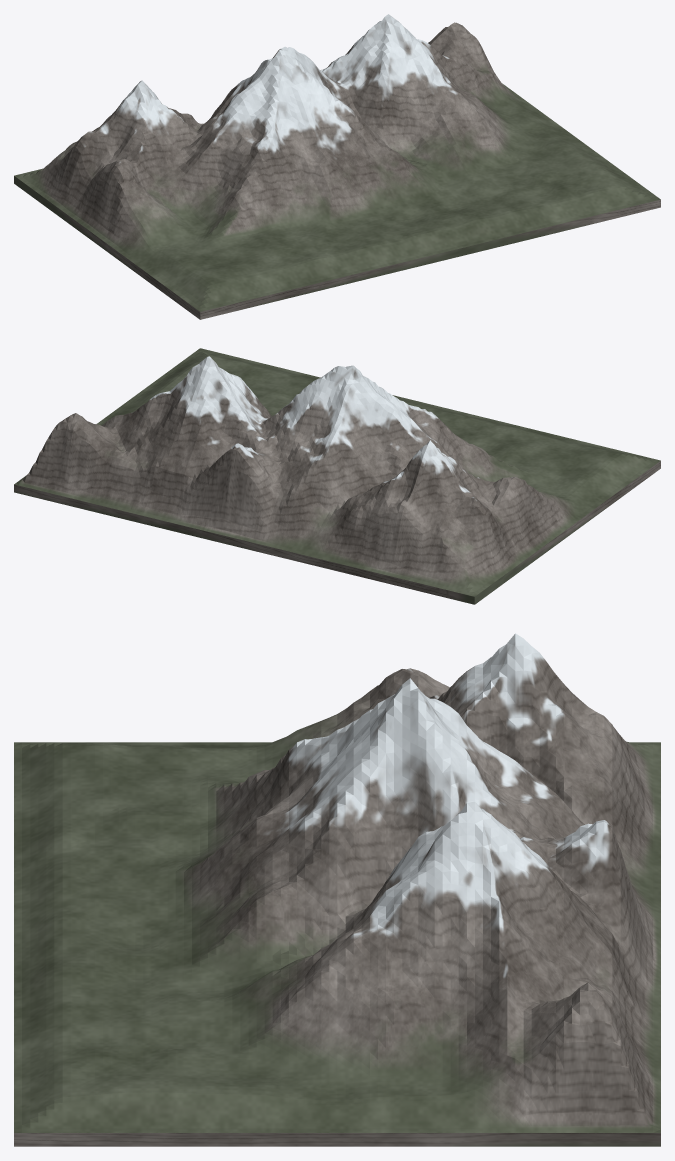
The model's file is Ridge.obj.
3 views of the same model, one above another, from view 1: azimuth 30°, elevation 25°; view 2: azimuth 150°, elevation 25°; view 3: azimuth 270°, elevation 25° (orthographic). The views are drawn at different scales.
Parts seen in each view (by area): view 1: Ridge; view 2: Ridge; view 3: Ridge.
Part boxes in pixels (x1,y1,x2,y2): Ridge: (14, 14, 660, 319); Ridge: (14, 348, 660, 604); Ridge: (14, 633, 660, 1146).
Size of the model in its own units: 8 by 2.31 by 5.6.
1 material, 1 textured.
